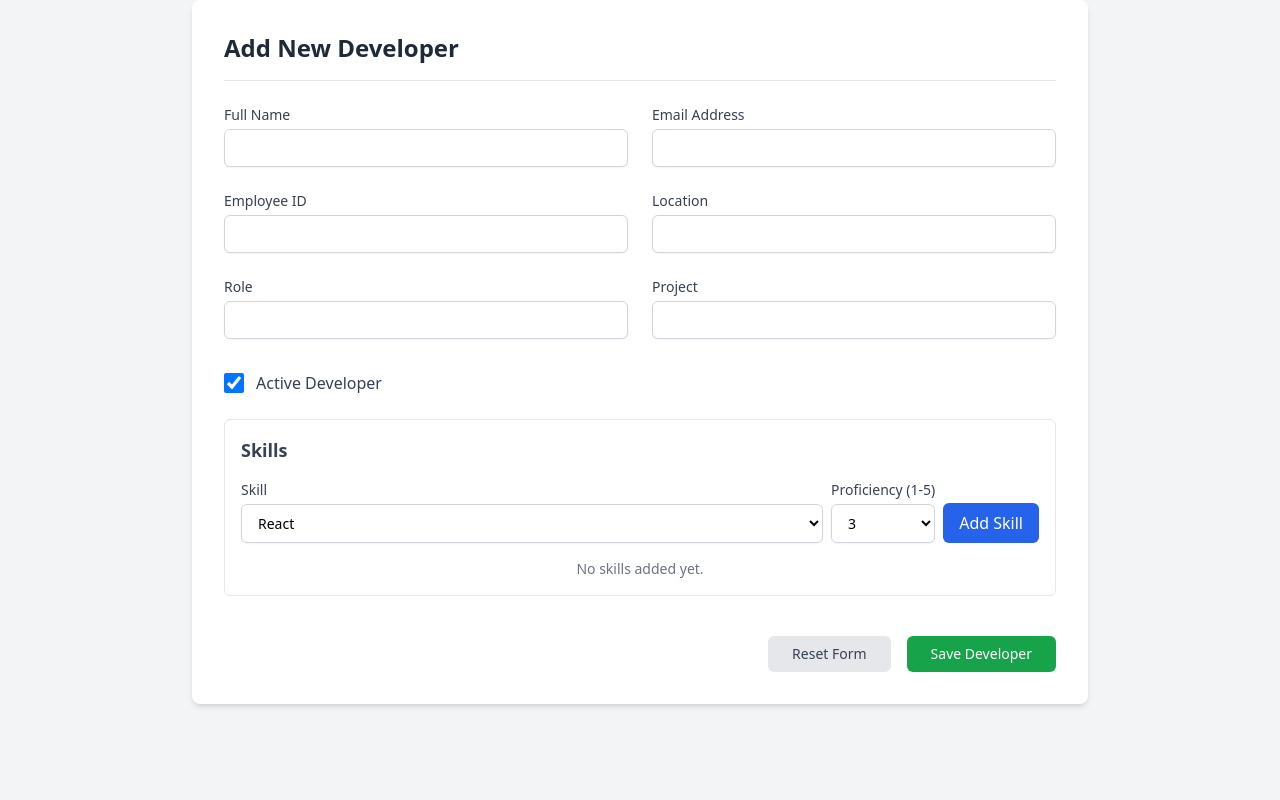
Test: AddDeveloperForm Component › shows an error if a developer with the same email already exists
Type "Jane Doe" into the field labelled "Full Name" at (426, 148), box [224, 129, 628, 167]
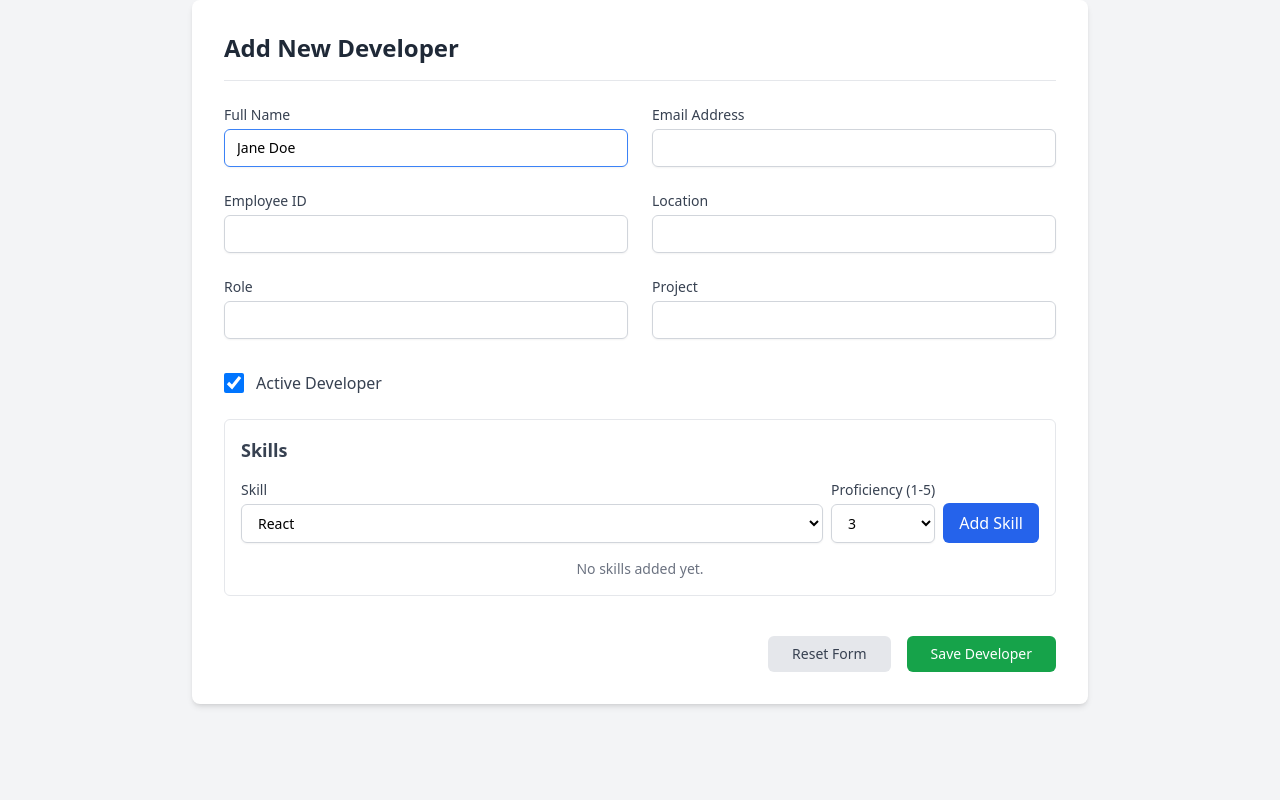
Type "jane.doe@test.com" into the field labelled "Email Address" at (854, 148), box [652, 129, 1056, 167]
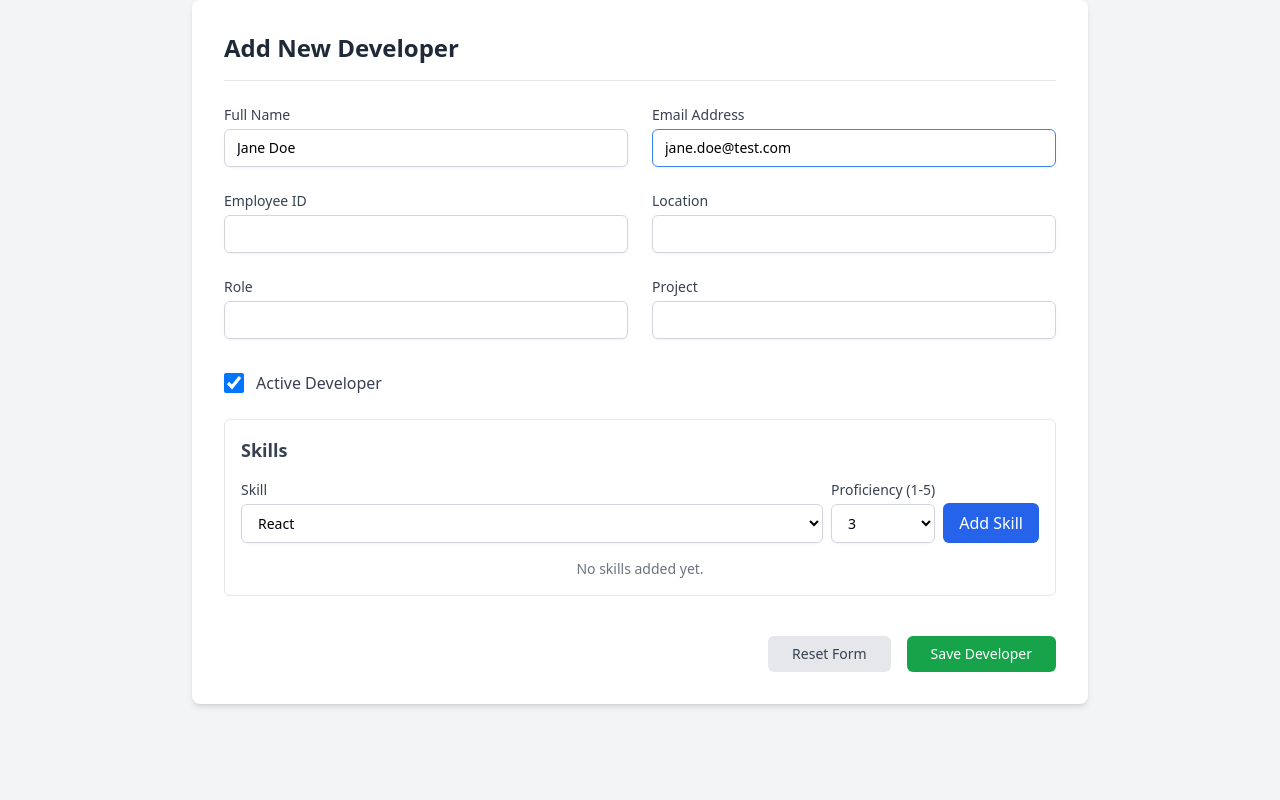
Click the button "Save Developer" at (981, 654), box [907, 636, 1056, 672]
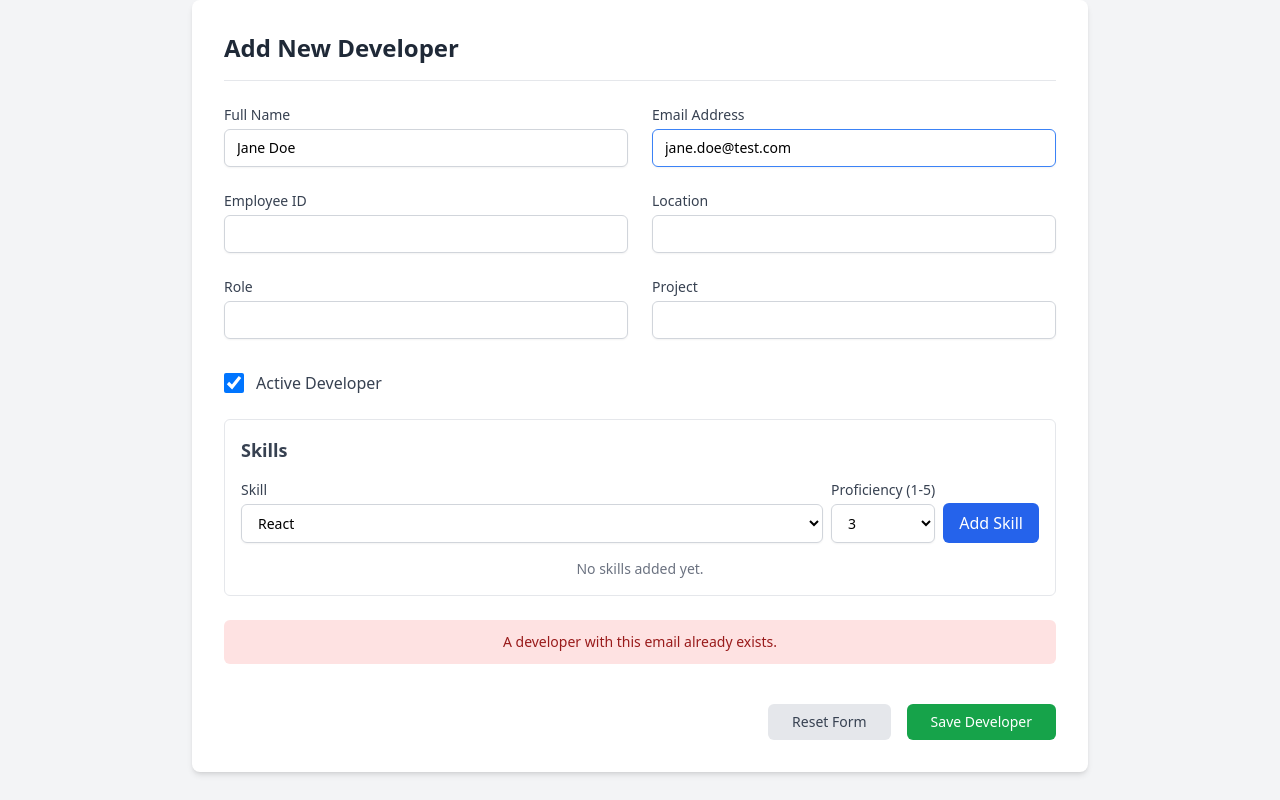
Expected: the text "A developer with this email already exists." is shown, [224, 620, 1056, 664]
